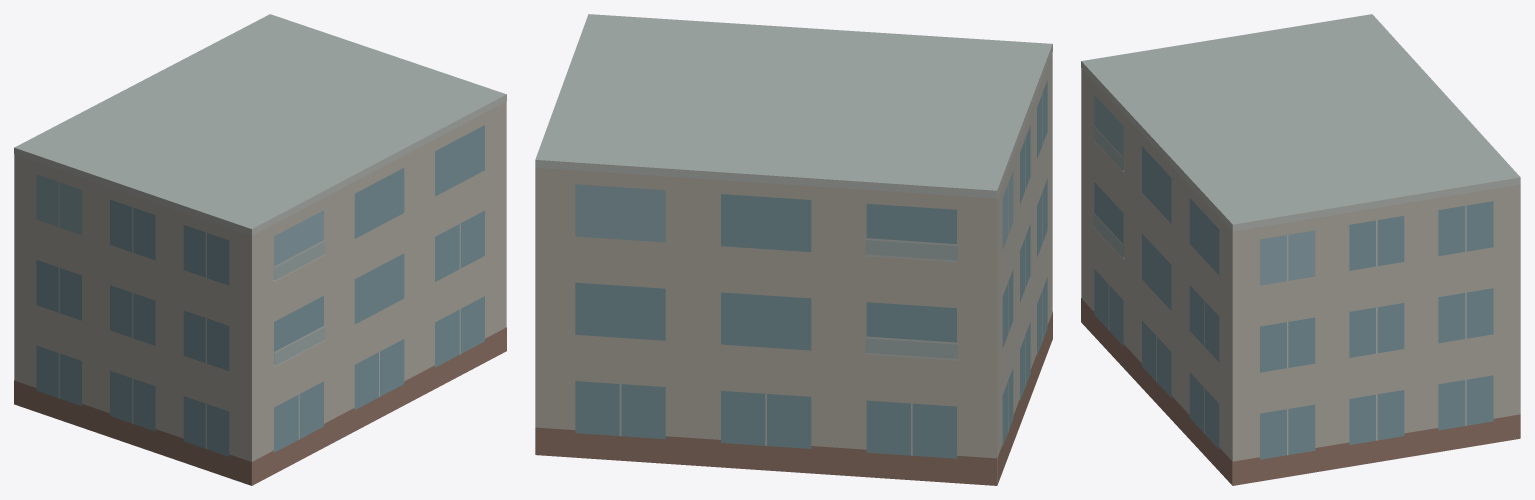
The model's file is survey-upis-32514084.glb.
3 renders of one model, left to right at view 1: azimuth 30°, elevation 25°; view 2: azimuth 150°, elevation 25°; view 3: azimuth 270°, elevation 25°, orthographic. The views are drawn at different scales.
Visible parts, largest first — view 1: survey-upis-32514084.tmp; view 2: survey-upis-32514084.tmp; view 3: survey-upis-32514084.tmp.
Part boxes in pixels (x1,y1,x2,y2): survey-upis-32514084.tmp: (14,14,506,485); survey-upis-32514084.tmp: (535,14,1052,485); survey-upis-32514084.tmp: (1081,14,1520,485).
Bounding box in the file's own units: 15.83 × 9.15 × 13.96.
